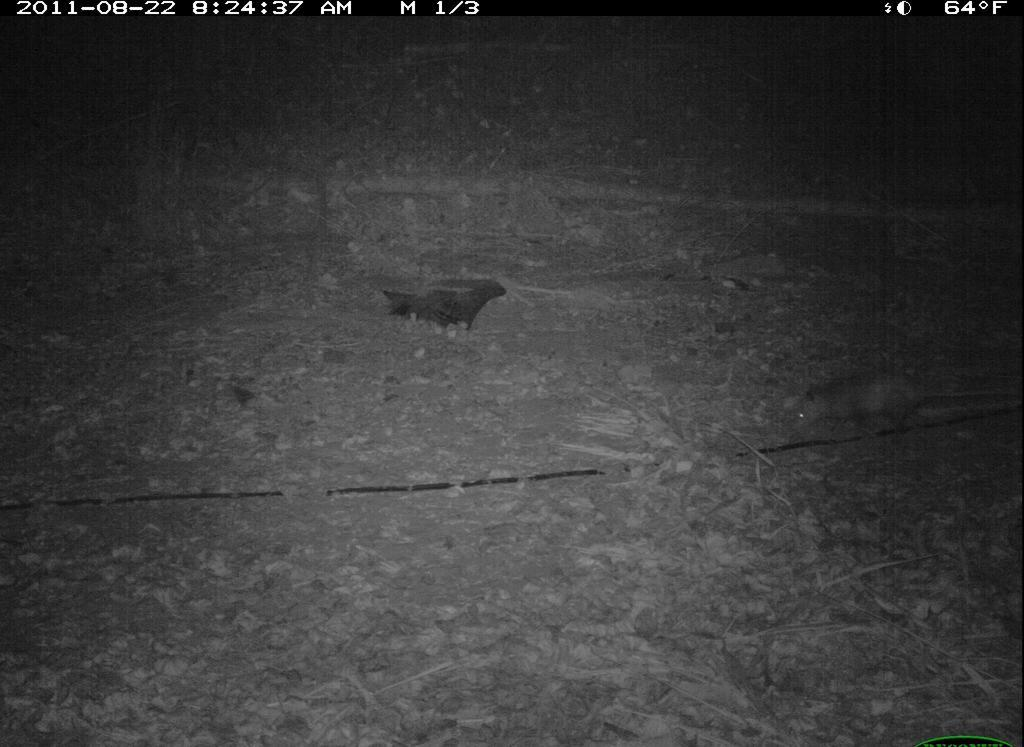opossum: (776, 368, 1016, 445)
